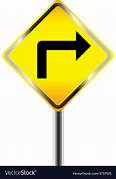right: (3, 1, 112, 112)
